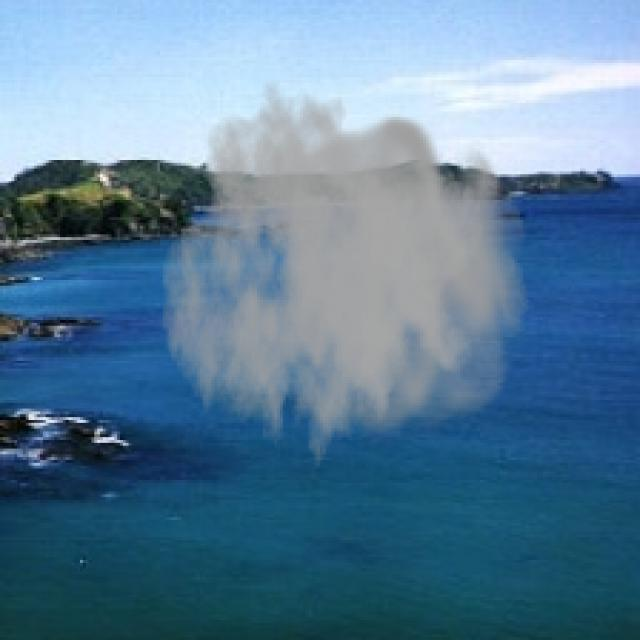smoke: (160, 80, 529, 486)
